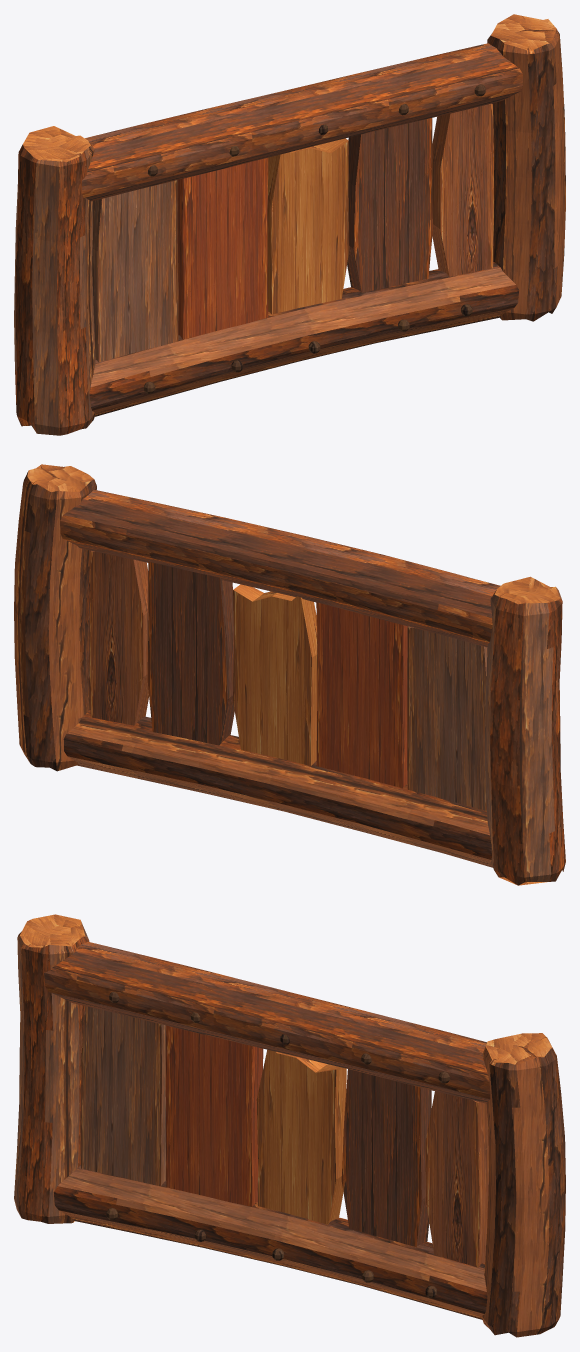
File: half_wall__plank_root.glb
3 renders of one model, top to bottom at view 1: azimuth 30°, elevation 25°; view 2: azimuth 150°, elevation 25°; view 3: azimuth 330°, elevation 25°, orthographic.
Parts seen in each view (by area): view 1: model; view 2: model; view 3: model.
Boxes of the visible parts, left/top/right/bottom form: model: left=14, top=14, right=565, bottom=435; model: left=14, top=464, right=565, bottom=885; model: left=14, top=914, right=565, bottom=1337.
Bounding box in the file's own units: 1.97 × 0.9839 × 0.2697.
16 materials, 16 textured.
